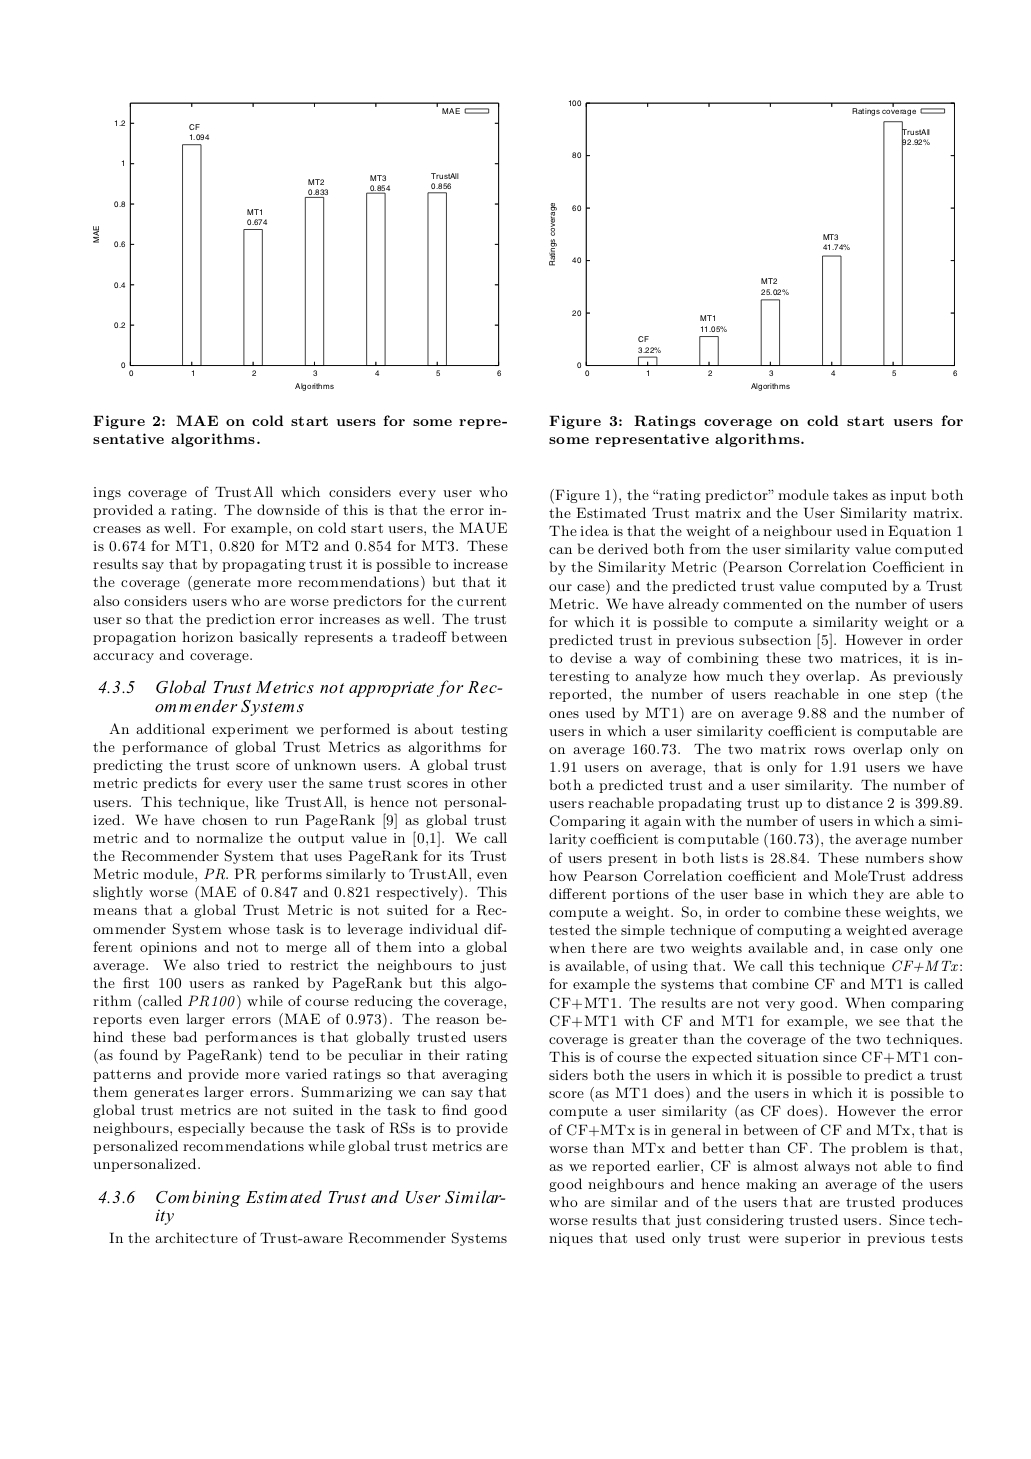figure: (547, 97, 956, 392), (91, 99, 500, 392)
